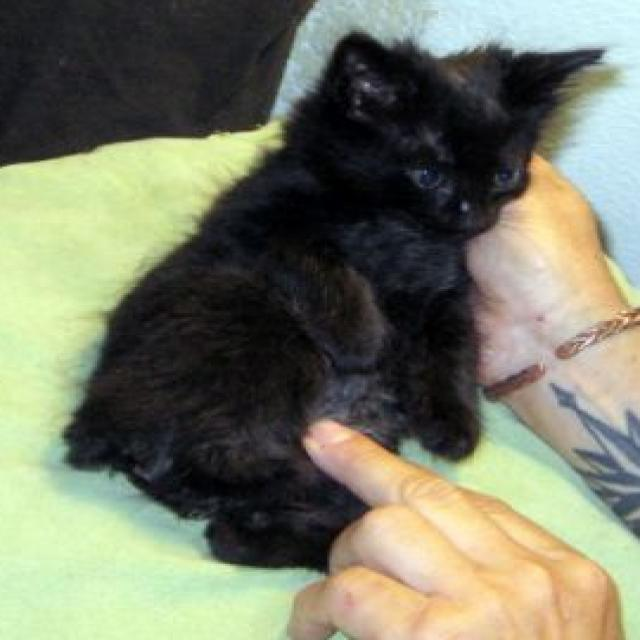American Bobtail: (59, 24, 617, 578)
